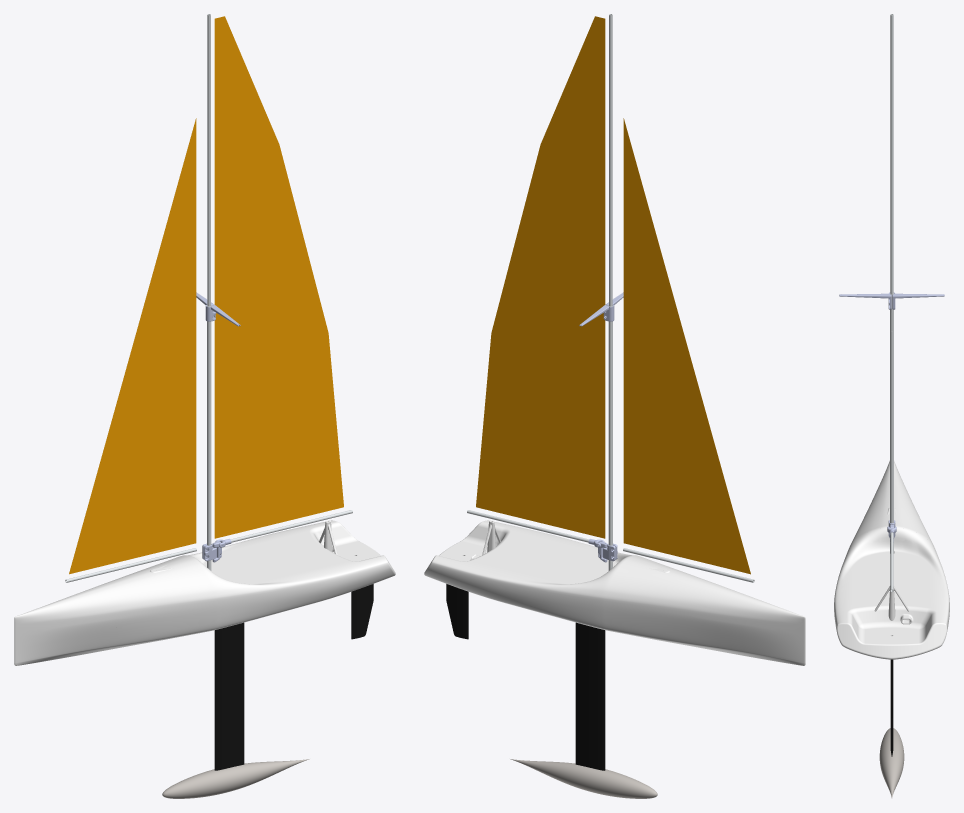
Rendered from haddock-compressed.glb.
The picture shows the model from 3 angles, left to right: view 1: azimuth 30°, elevation 25°; view 2: azimuth 150°, elevation 25°; view 3: azimuth 270°, elevation 25°; orthographic projection. The views are drawn at different scales.
Size of the model in its own units: 0.9891 by 2.01 by 0.2822.
